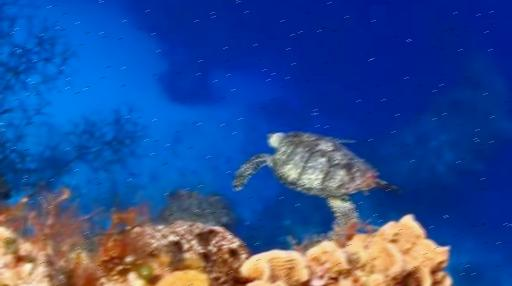Fish: (233, 132, 399, 224)
